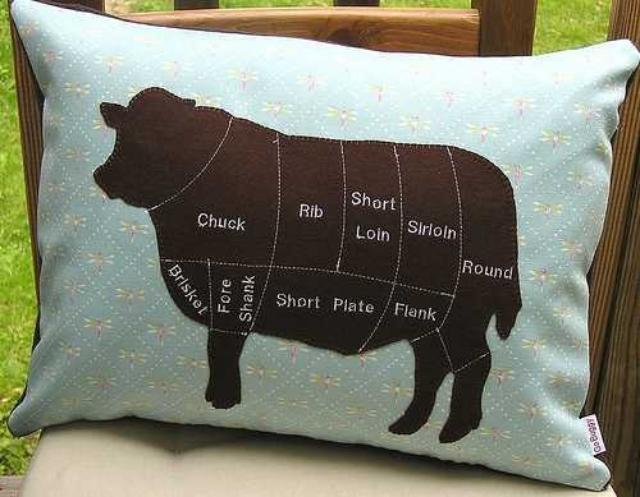pillow: (5, 1, 637, 492)
